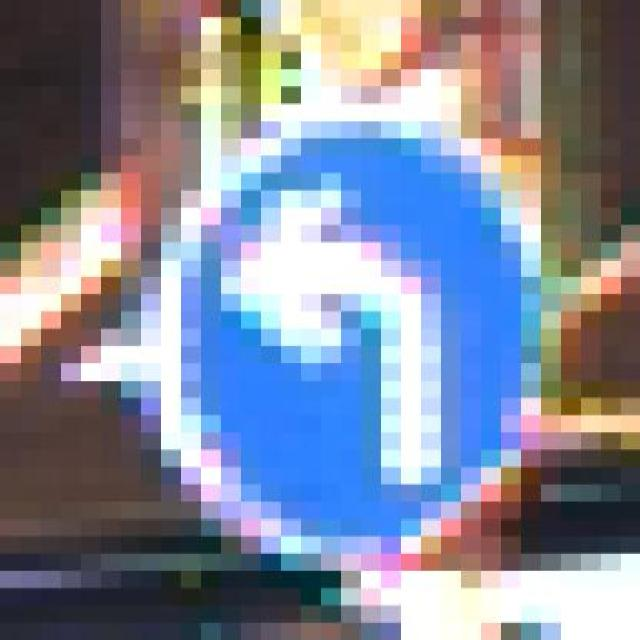Turn left ahead: (120, 103, 580, 554)
